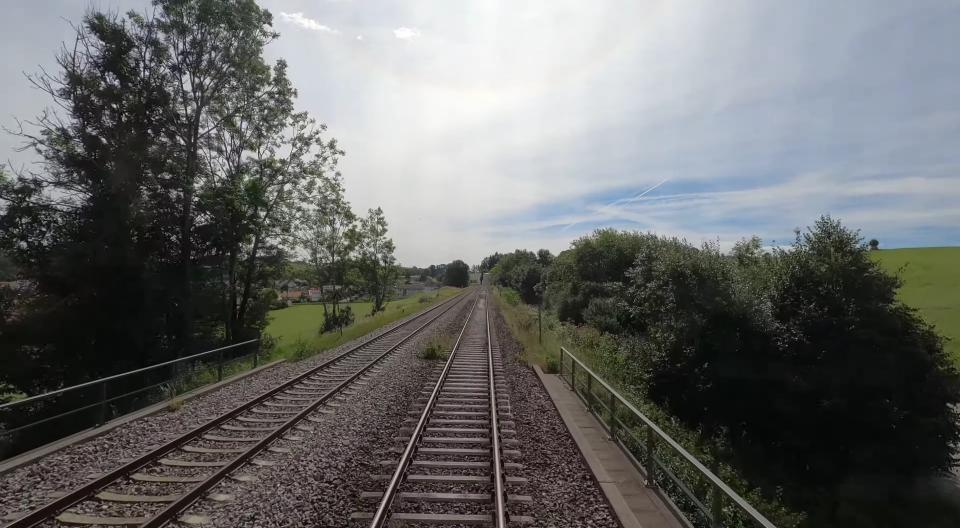Plant: (418, 343, 444, 360), (517, 353, 527, 367)
